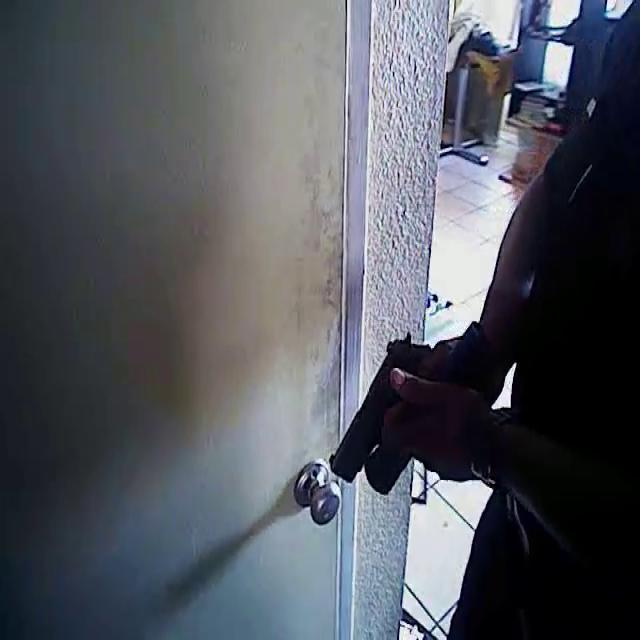gun: (317, 299, 493, 520)
